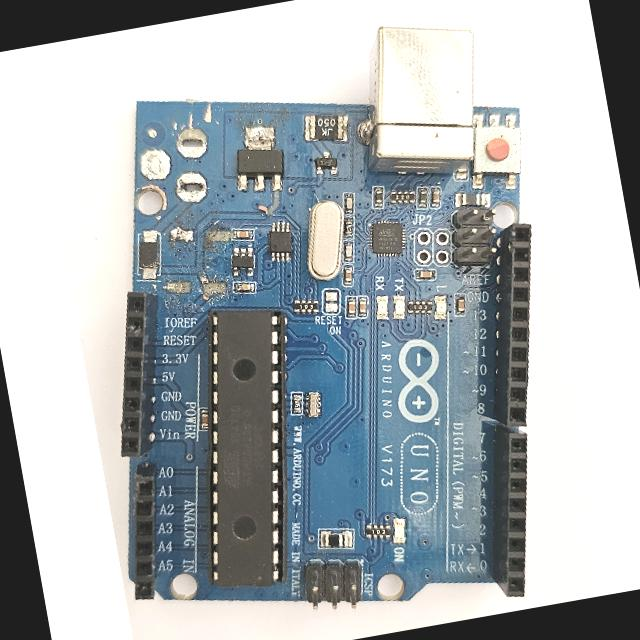missing_capacitors: (163, 221, 231, 301)
missing_eps: (152, 110, 222, 210)
